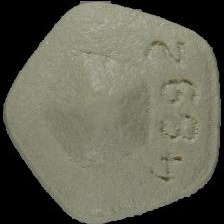55289-470: (0, 0, 224, 224)
